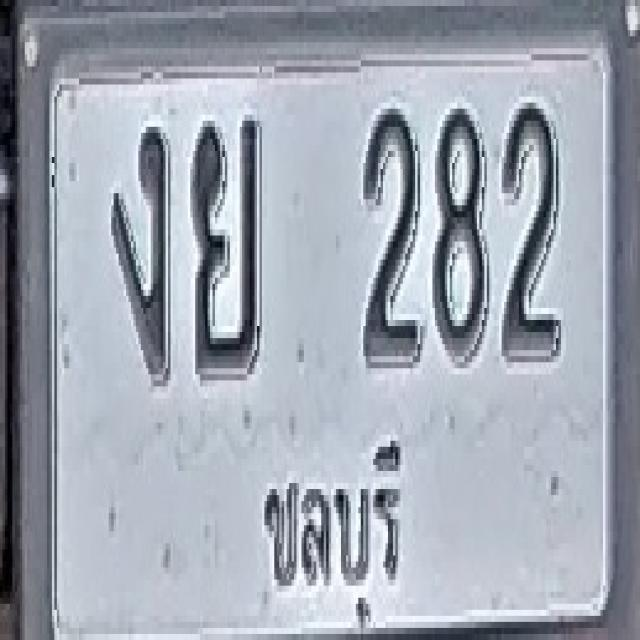-: (192, 115, 260, 374), (111, 124, 168, 377)
2: (503, 103, 560, 356), (362, 106, 419, 359)
8: (434, 103, 486, 356)
CBI: (246, 432, 414, 638)
